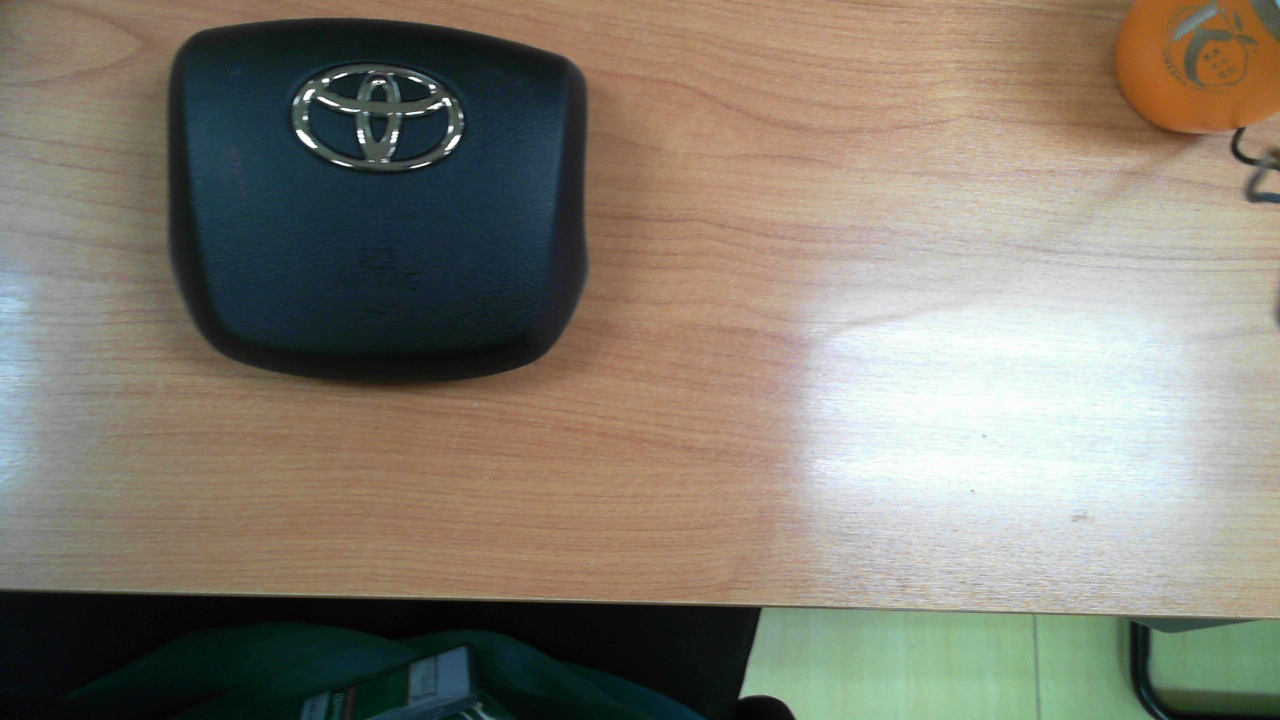Airbag: (167, 17, 590, 389)
Toyota: (292, 64, 465, 171)
